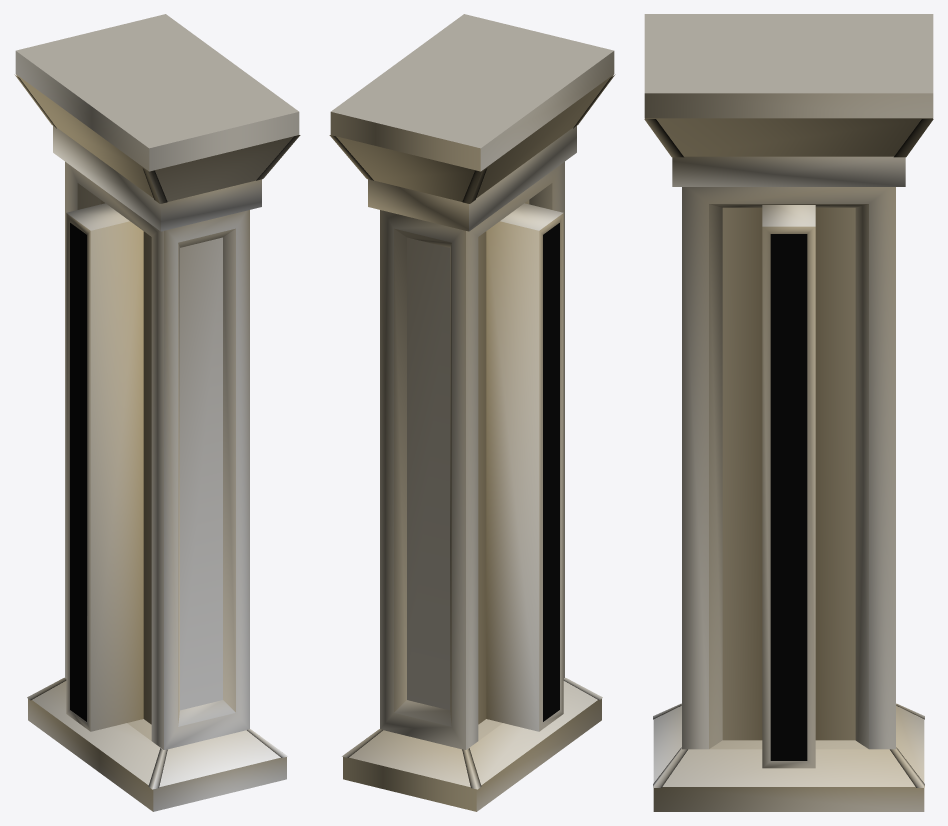
The model's file is LaserPillar.gltf.
3 renders of one model, left to right at view 1: azimuth 30°, elevation 25°; view 2: azimuth 150°, elevation 25°; view 3: azimuth 270°, elevation 25°, orthographic. The views are drawn at different scales.
Parts seen in each view (by area): view 1: LaserPillarMesh; view 2: LaserPillarMesh; view 3: LaserPillarMesh.
Part boxes in pixels (<box>): LaserPillarMesh: <box>14,14,300,811</box>; LaserPillarMesh: <box>329,14,615,811</box>; LaserPillarMesh: <box>644,14,933,811</box>.
Bounding box in the file's own units: 1.45 × 5.86 × 2.13.
